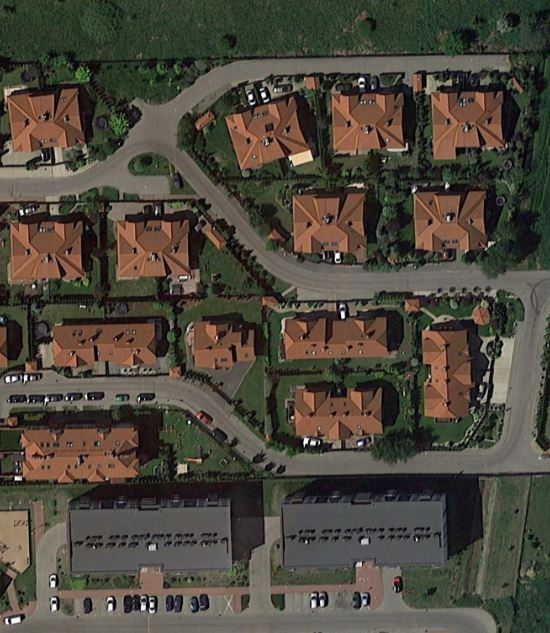block of flats: (275, 490, 450, 571), (61, 495, 237, 571)
family house: (221, 90, 313, 175), (411, 183, 494, 256), (430, 86, 508, 162), (111, 213, 196, 282), (290, 187, 372, 256), (329, 87, 411, 155), (5, 219, 86, 285), (187, 317, 258, 373)
terrace house: (16, 423, 148, 483), (279, 311, 394, 363), (418, 322, 475, 422), (290, 383, 386, 442)
